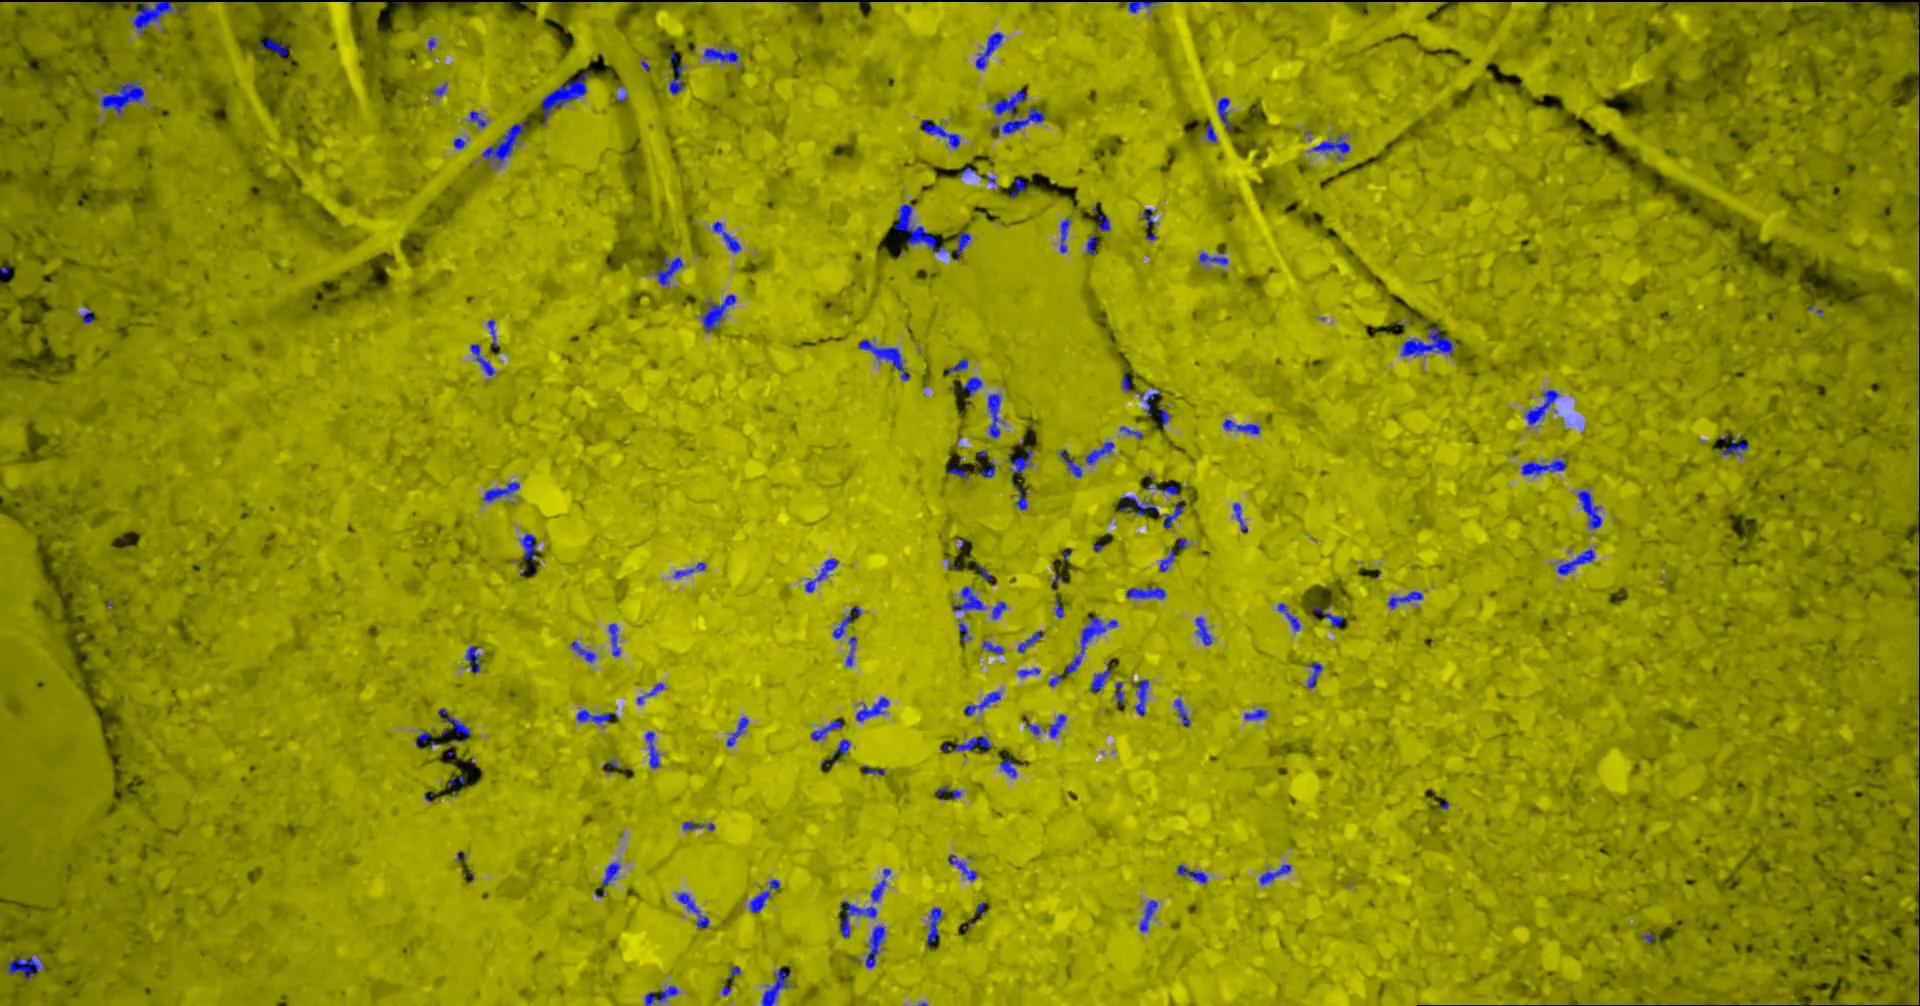ant: (1065, 616, 1117, 674), (990, 88, 1044, 133), (894, 203, 943, 251), (541, 72, 587, 124), (858, 339, 909, 380), (481, 121, 527, 165), (131, 0, 185, 33), (1399, 326, 1453, 356), (100, 80, 143, 114), (839, 901, 876, 937), (701, 293, 735, 332), (1524, 389, 1559, 424), (676, 892, 709, 929), (804, 558, 837, 592), (919, 119, 959, 147), (761, 968, 790, 1005), (437, 708, 469, 741), (975, 32, 1003, 69), (1556, 547, 1594, 574), (832, 605, 860, 638), (1577, 490, 1601, 528), (1312, 135, 1349, 159), (964, 691, 1001, 715), (6, 955, 43, 979), (712, 221, 740, 253), (855, 696, 889, 721), (938, 735, 990, 752), (654, 255, 683, 285), (952, 586, 985, 611), (865, 925, 884, 968), (1090, 657, 1112, 692), (987, 392, 1004, 437), (822, 738, 850, 766), (947, 854, 977, 880), (470, 343, 494, 375), (1010, 448, 1032, 481), (1119, 495, 1158, 514), (810, 719, 844, 741), (1135, 387, 1159, 417), (483, 481, 519, 500), (1520, 459, 1566, 474), (644, 984, 678, 1005), (1145, 475, 1178, 495), (577, 709, 617, 725), (1258, 864, 1291, 884), (870, 868, 890, 901), (1084, 441, 1114, 464), (1313, 605, 1342, 627), (1277, 603, 1300, 631), (1387, 591, 1422, 608), (1059, 448, 1081, 478), (726, 716, 748, 746), (601, 862, 620, 895), (1162, 500, 1183, 528), (1719, 438, 1749, 459), (1131, 680, 1148, 715), (926, 907, 942, 942), (636, 682, 663, 704), (1176, 864, 1208, 882), (1139, 899, 1157, 931), (1222, 419, 1258, 434), (1125, 586, 1164, 600), (1017, 630, 1043, 652), (645, 730, 659, 768), (703, 47, 738, 62), (570, 641, 596, 662), (963, 377, 982, 404), (668, 61, 683, 94), (1217, 97, 1232, 130), (259, 38, 287, 56), (1194, 617, 1211, 645), (673, 561, 705, 577), (521, 533, 538, 560), (749, 890, 770, 913), (954, 231, 970, 259), (1048, 714, 1065, 738), (1232, 503, 1247, 531), (465, 645, 480, 673), (1059, 216, 1070, 251), (943, 358, 968, 375), (1175, 699, 1189, 727), (1305, 662, 1321, 687), (608, 622, 620, 655), (1197, 251, 1227, 264), (1159, 547, 1175, 572), (1128, 0, 1157, 11), (844, 636, 856, 666), (486, 319, 498, 347), (469, 111, 486, 128), (973, 563, 990, 580), (999, 758, 1016, 777), (1010, 177, 1025, 197), (1119, 426, 1142, 438), (1015, 485, 1026, 511), (682, 821, 714, 829), (982, 640, 1003, 653), (990, 601, 1006, 619), (1243, 709, 1266, 720), (980, 461, 996, 478), (1096, 213, 1110, 231), (1205, 121, 1217, 142), (1114, 681, 1124, 705), (1157, 406, 1170, 426), (957, 622, 970, 641), (1017, 667, 1039, 677), (1142, 208, 1153, 227), (415, 730, 429, 746), (863, 765, 884, 775), (1055, 594, 1063, 617), (1086, 235, 1095, 254), (1048, 674, 1062, 686), (947, 467, 965, 476), (81, 307, 91, 323), (453, 137, 465, 149), (1121, 375, 1129, 391)
